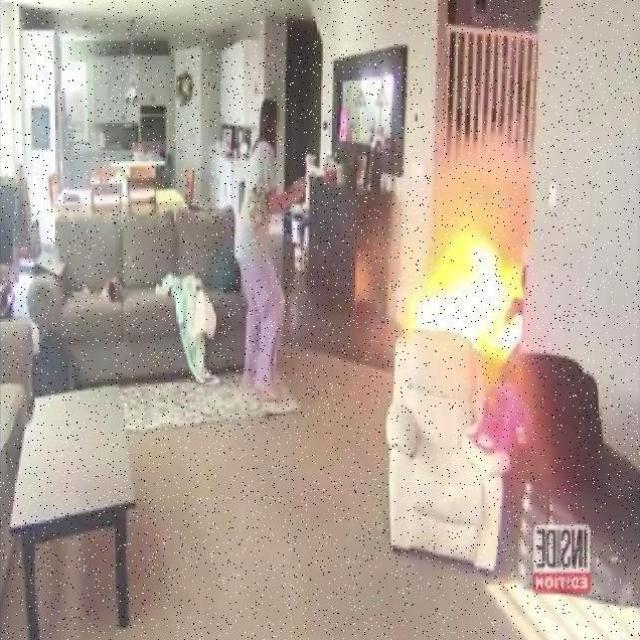smoke: (404, 224, 527, 361)
